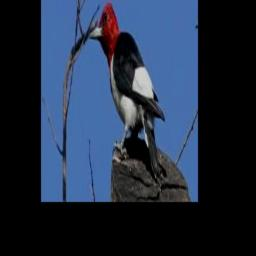Woodpecker: (89, 2, 165, 179)
